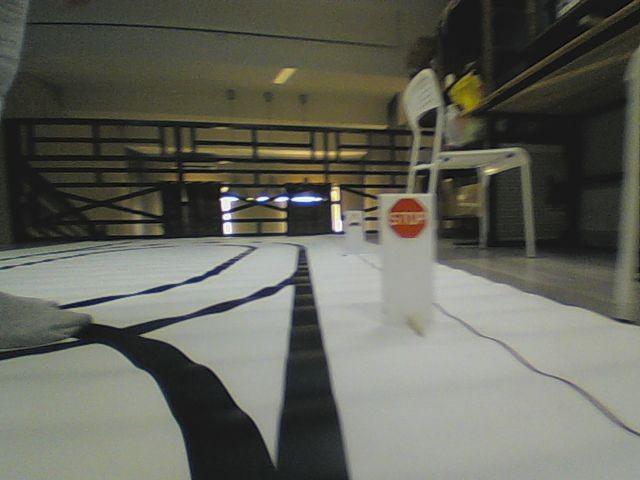Stop: (386, 198, 428, 239)
